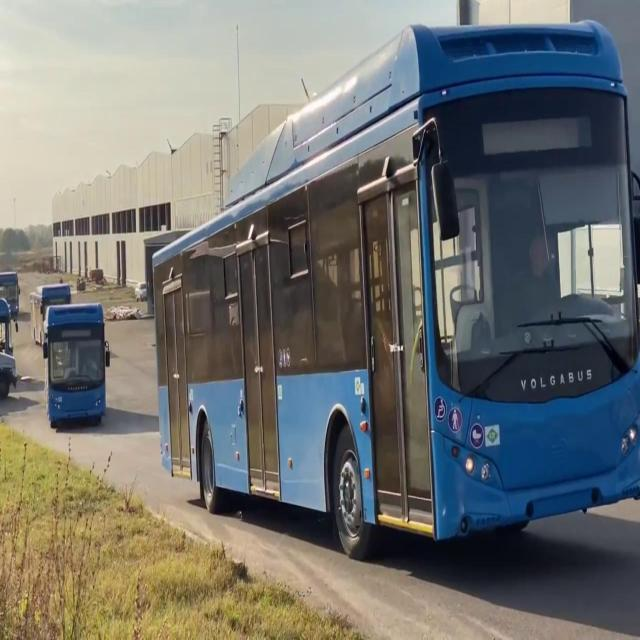bus: (152, 19, 640, 561), (40, 302, 121, 438)
